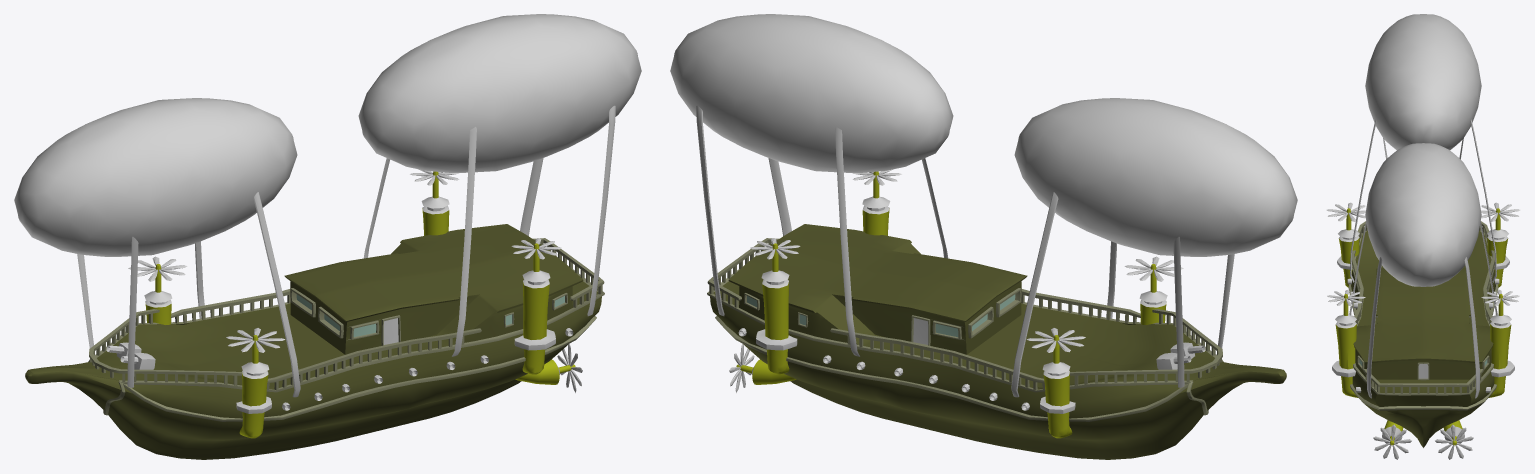
Rendered from player.obj.
3 renders of one model, left to right at view 1: azimuth 30°, elevation 25°; view 2: azimuth 150°, elevation 25°; view 3: azimuth 270°, elevation 25°, orthographic. The views are drawn at different scales.
Size of the model in its own units: 3.74 by 2.2 by 1.34.
